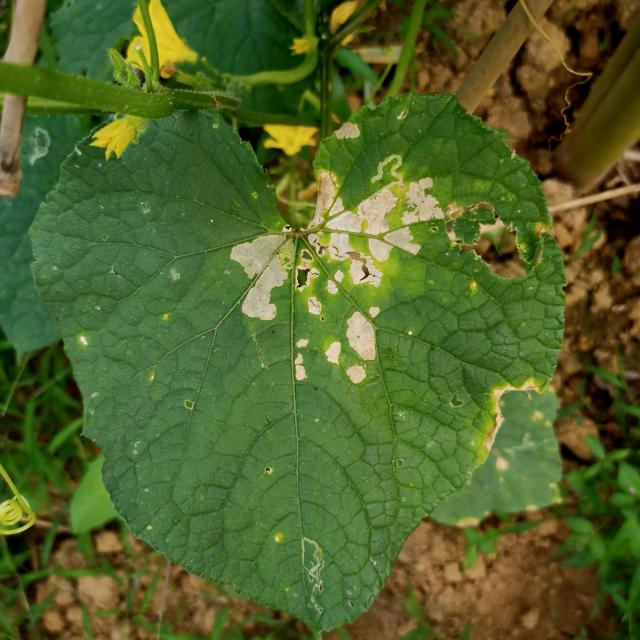disease_cucumber: (218, 168, 442, 392)
